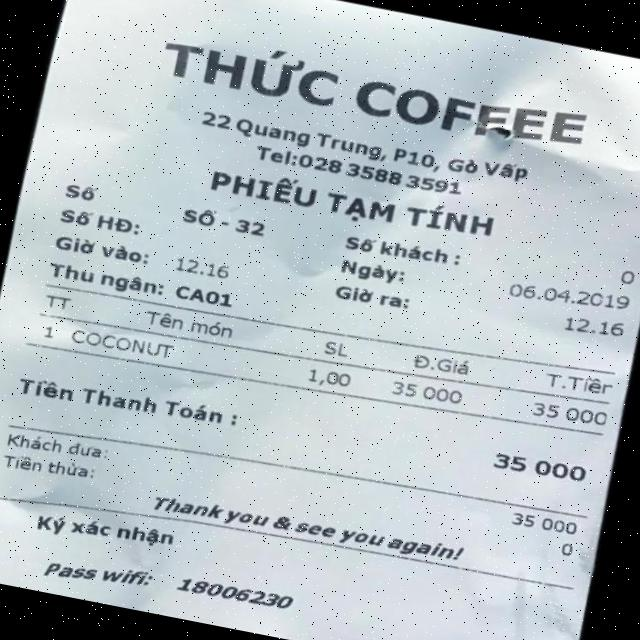Date: (499, 268, 637, 324)
Store_Name: (144, 24, 610, 173)
amount_number: (480, 439, 596, 493)
label_total: (15, 369, 240, 438)
